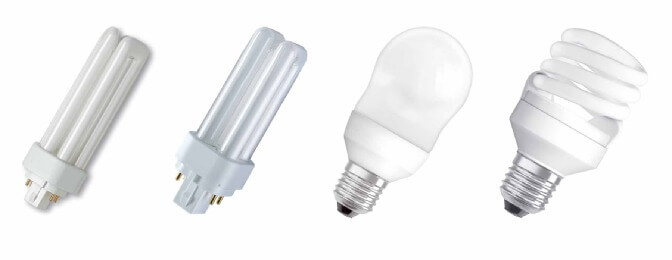Light bulb: (331, 23, 479, 222), (498, 25, 649, 220), (170, 24, 309, 219), (18, 23, 153, 215)
